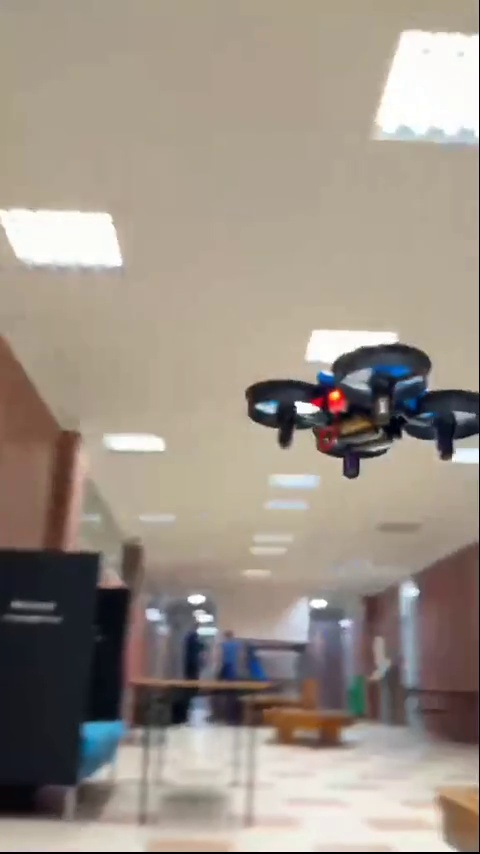drone: (249, 346, 480, 490)
no vest: (177, 627, 207, 683), (214, 627, 243, 681)
